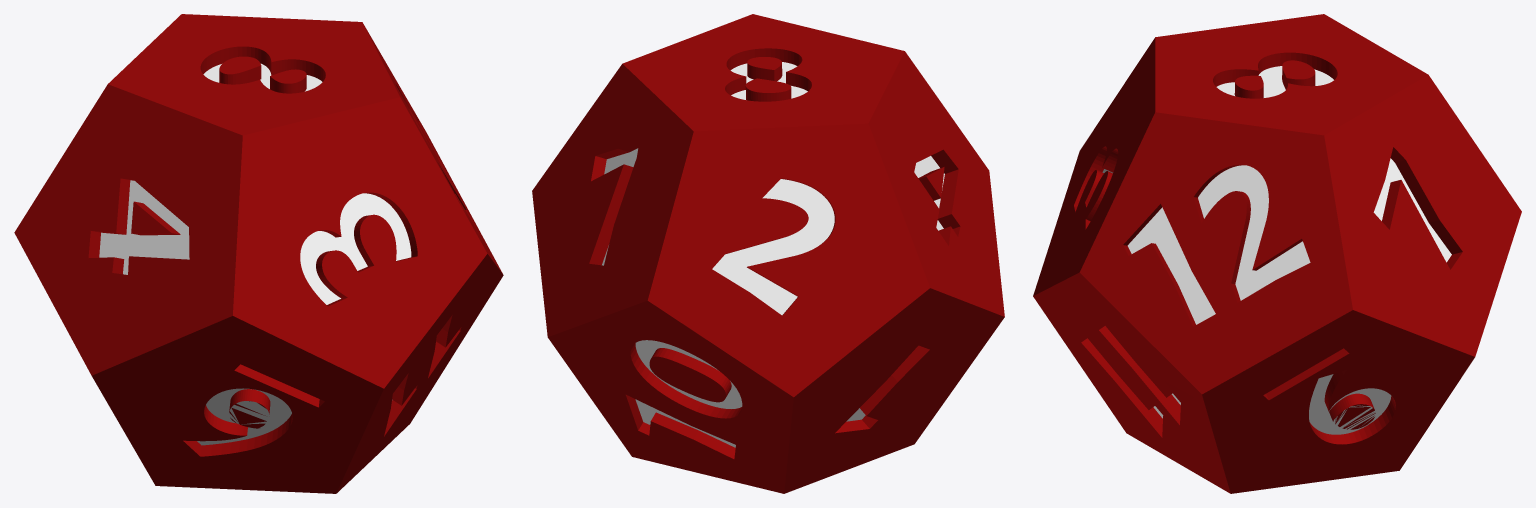
File: Boardgame_Dice_D12_Red_01.fbx
3 views of the same model, side by side, from view 1: azimuth 30°, elevation 25°; view 2: azimuth 150°, elevation 25°; view 3: azimuth 270°, elevation 25° (orthographic). The views are drawn at different scales.
Visible parts, largest first — view 1: Boardgame_Dice_D12_Red_01; view 2: Boardgame_Dice_D12_Red_01; view 3: Boardgame_Dice_D12_Red_01.
Boxes of the visible parts, box(x1,y1,x2,y2) form: Boardgame_Dice_D12_Red_01: box(14, 14, 503, 493); Boardgame_Dice_D12_Red_01: box(532, 14, 1004, 493); Boardgame_Dice_D12_Red_01: box(1033, 14, 1521, 493).
Size of the model in its own units: 1646 by 1400 by 1731.
